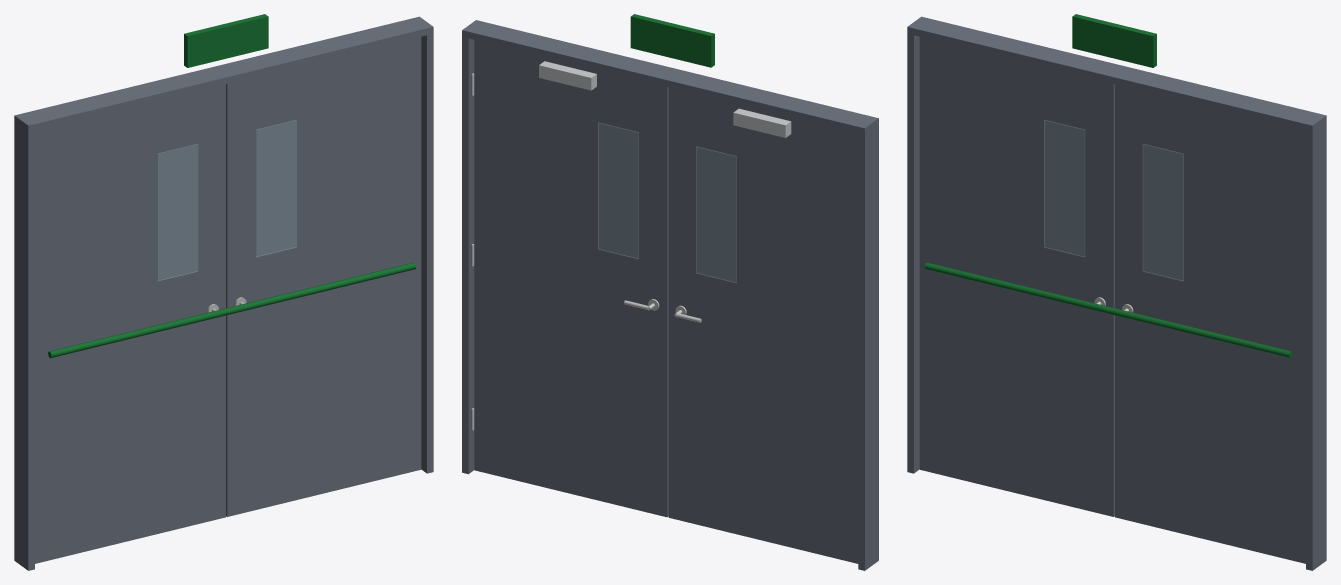
The model's file is opening.door.fire_exit_double.glb.
3 views of the same model, side by side, from view 1: azimuth 30°, elevation 25°; view 2: azimuth 150°, elevation 25°; view 3: azimuth 330°, elevation 25° (orthographic).
Visible parts, largest first — view 1: leaf__steel_painted, frame__steel_painted, leaf__glass, ironmongery__plastic_green; view 2: leaf__steel_painted, frame__steel_painted, leaf__glass, ironmongery__plastic_green, ironmongery__aluminium, ironmongery__steel_stainless; view 3: leaf__steel_painted, frame__steel_painted, leaf__glass, ironmongery__plastic_green.
Boxes of the visible parts, box(x1,y1,x2,y2) form: leaf__steel_painted: box(35, 37, 421, 563); frame__steel_painted: box(14, 16, 433, 570); leaf__glass: box(157, 120, 296, 280); ironmongery__plastic_green: box(48, 14, 416, 358); leaf__steel_painted: box(474, 40, 858, 563); frame__steel_painted: box(462, 20, 878, 570); leaf__glass: box(598, 123, 736, 282); ironmongery__plastic_green: box(630, 14, 714, 67); ironmongery__aluminium: box(539, 61, 791, 137); ironmongery__steel_stainless: box(471, 73, 701, 430); leaf__steel_painted: box(919, 37, 1305, 563); frame__steel_painted: box(907, 16, 1326, 570); leaf__glass: box(1044, 120, 1183, 280); ironmongery__plastic_green: box(924, 14, 1292, 358).
Bounding box in the file's own units: 2 × 2.33 × 0.159.
